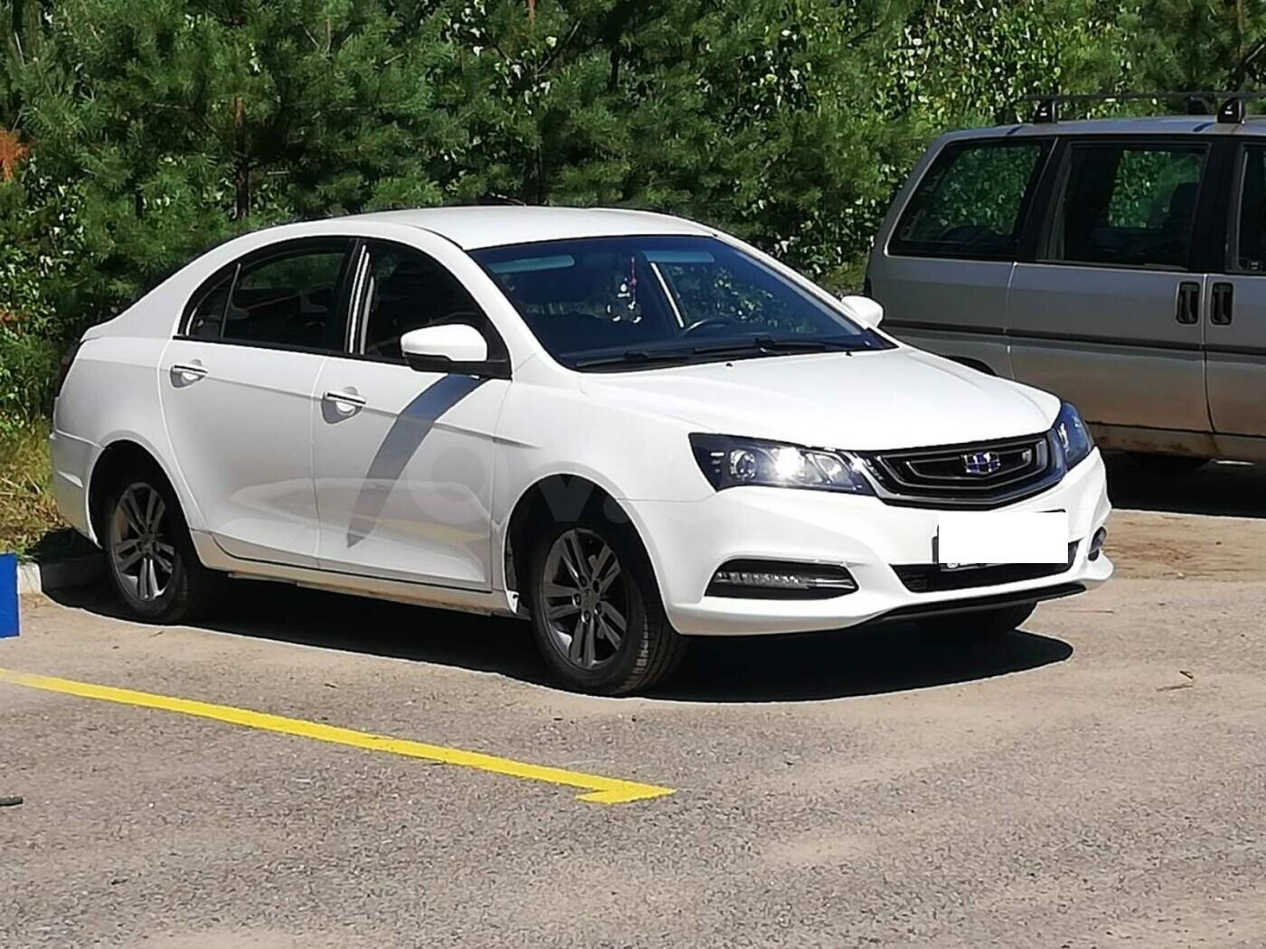Emgrand_2019-2021: (49, 206, 1113, 694)
